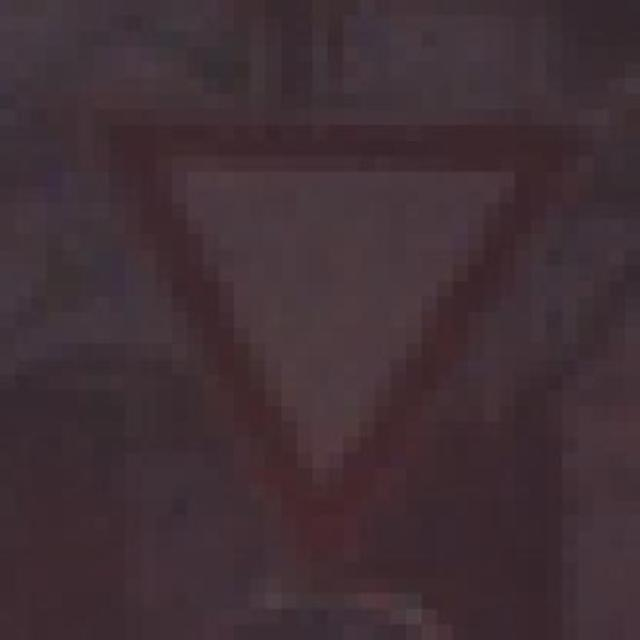Give Way: (109, 78, 594, 562)
